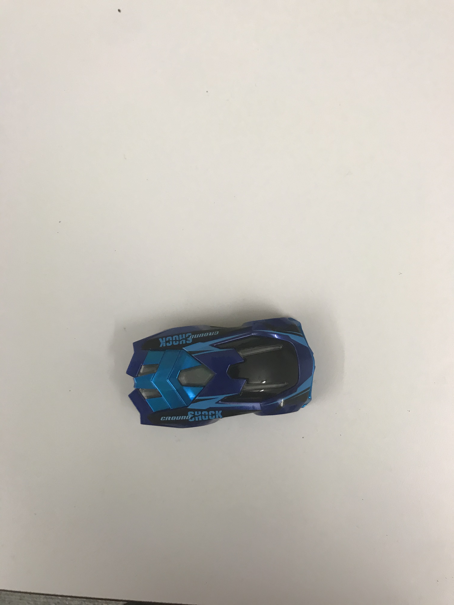Shock: (125, 316, 317, 429)
